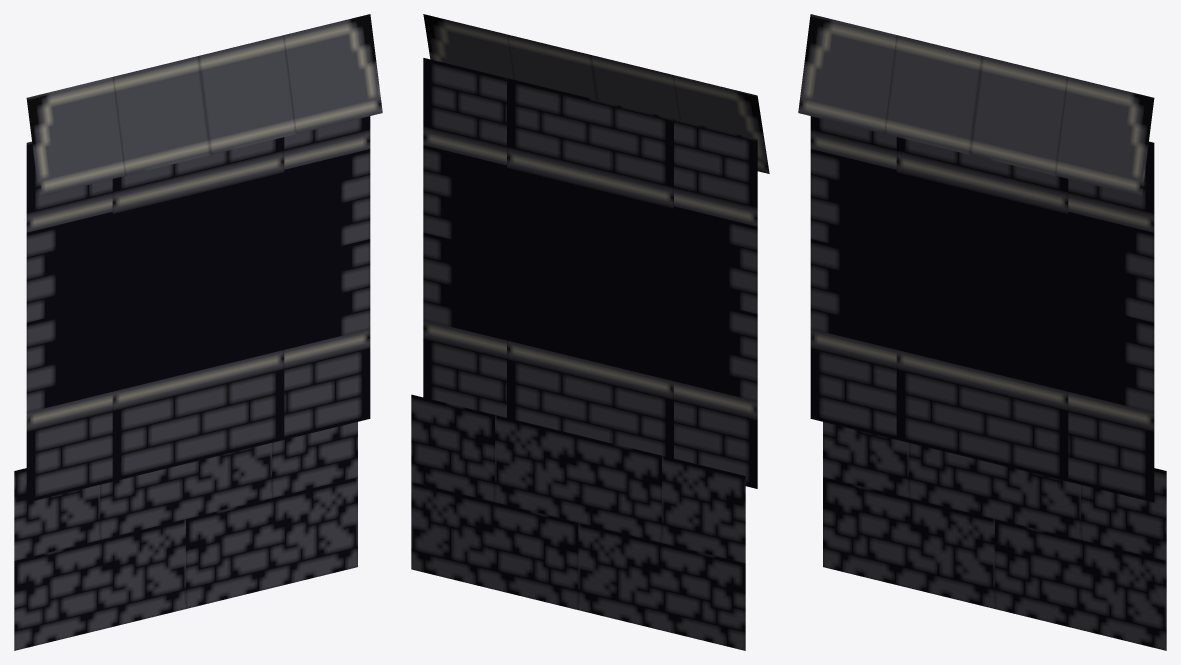
Rendered from Facade4.obj.
3 renders of one model, left to right at view 1: azimuth 30°, elevation 25°; view 2: azimuth 150°, elevation 25°; view 3: azimuth 330°, elevation 25°, orthographic. The views are drawn at different scales.
Parts seen in each view (by area): view 1: Default; view 2: Default; view 3: Default.
Part boxes in pixels (x1,y1,x2,y2): Default: (14,14,382,650); Default: (411,14,769,650); Default: (798,14,1166,650).
Size of the model in its own units: 4 by 6.25 by 0.5.
1 material, 1 textured.
